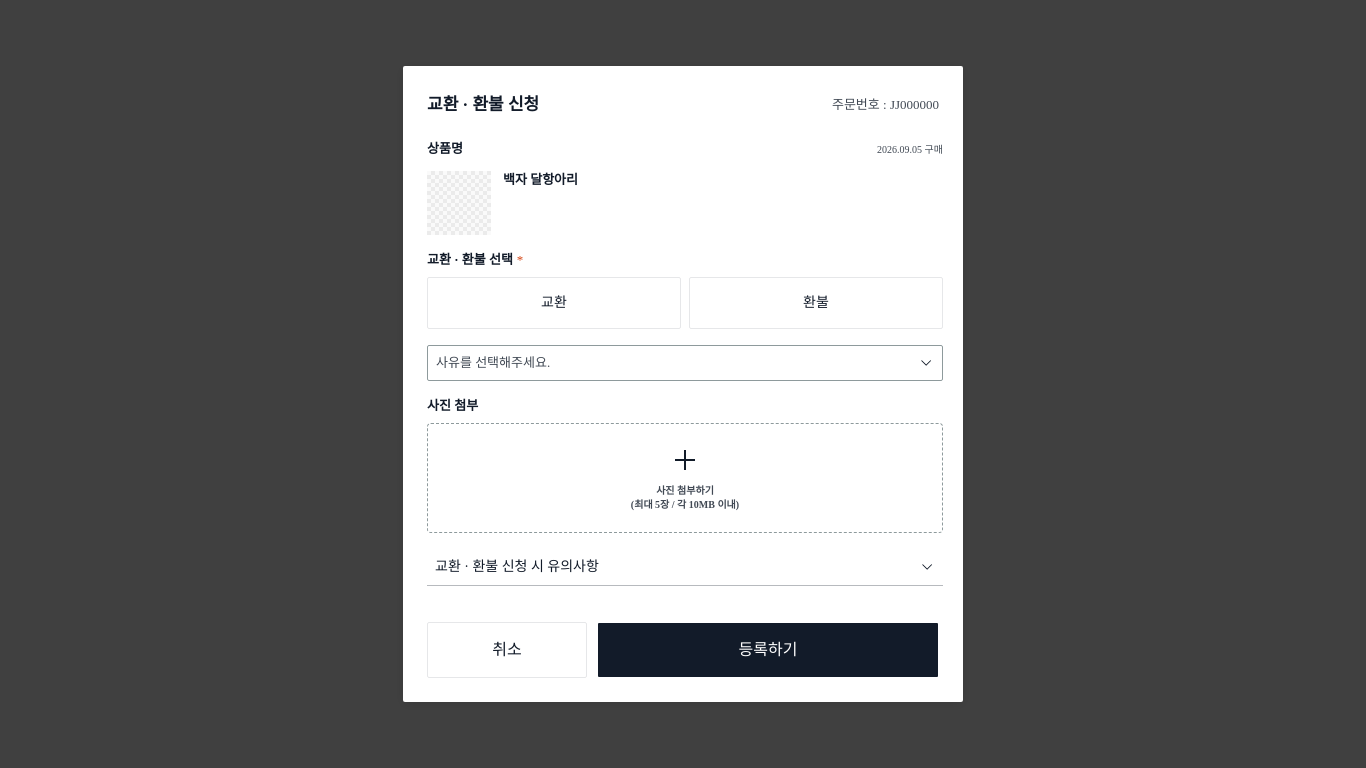
Test: OrderExchangeRefundRequestModal › 사진 없이 제출하면 에러를 보여준다(필수)
The width and height of the screenshot is (1366, 768).
Click the button "교환" at (554, 303), box [427,277,681,329]
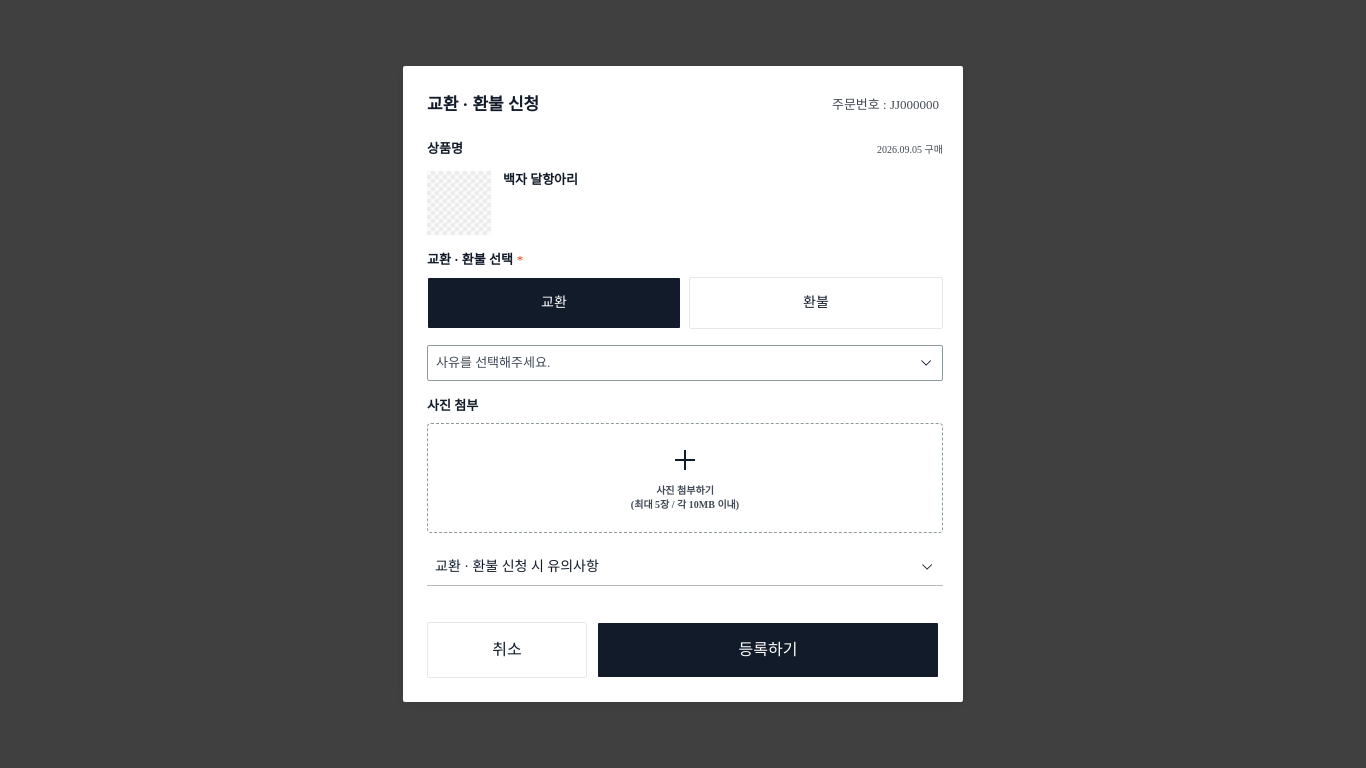
Click the dropdown named "신청 사유" at (493, 362), box [427,345,943,381]
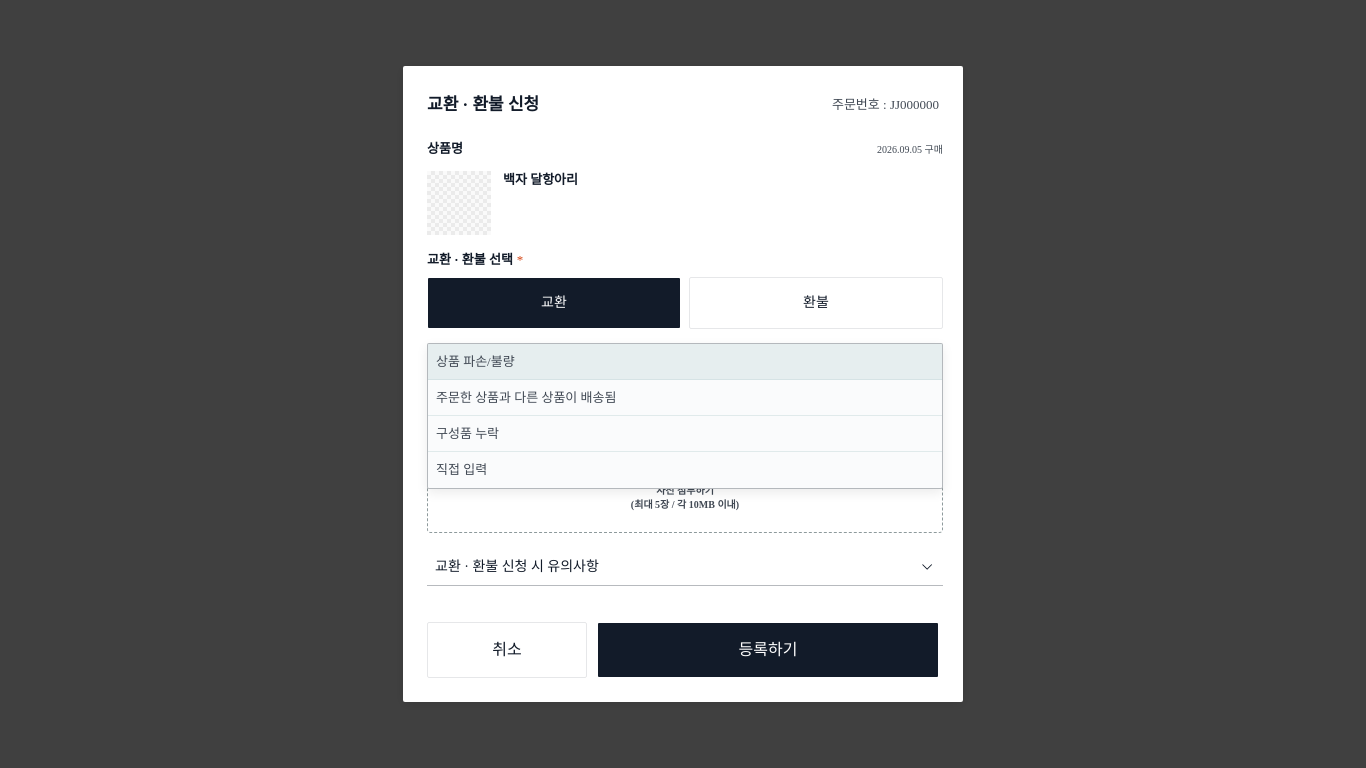
Click the option "상품 파손/불량" at (475, 361), box [428,344,942,380]
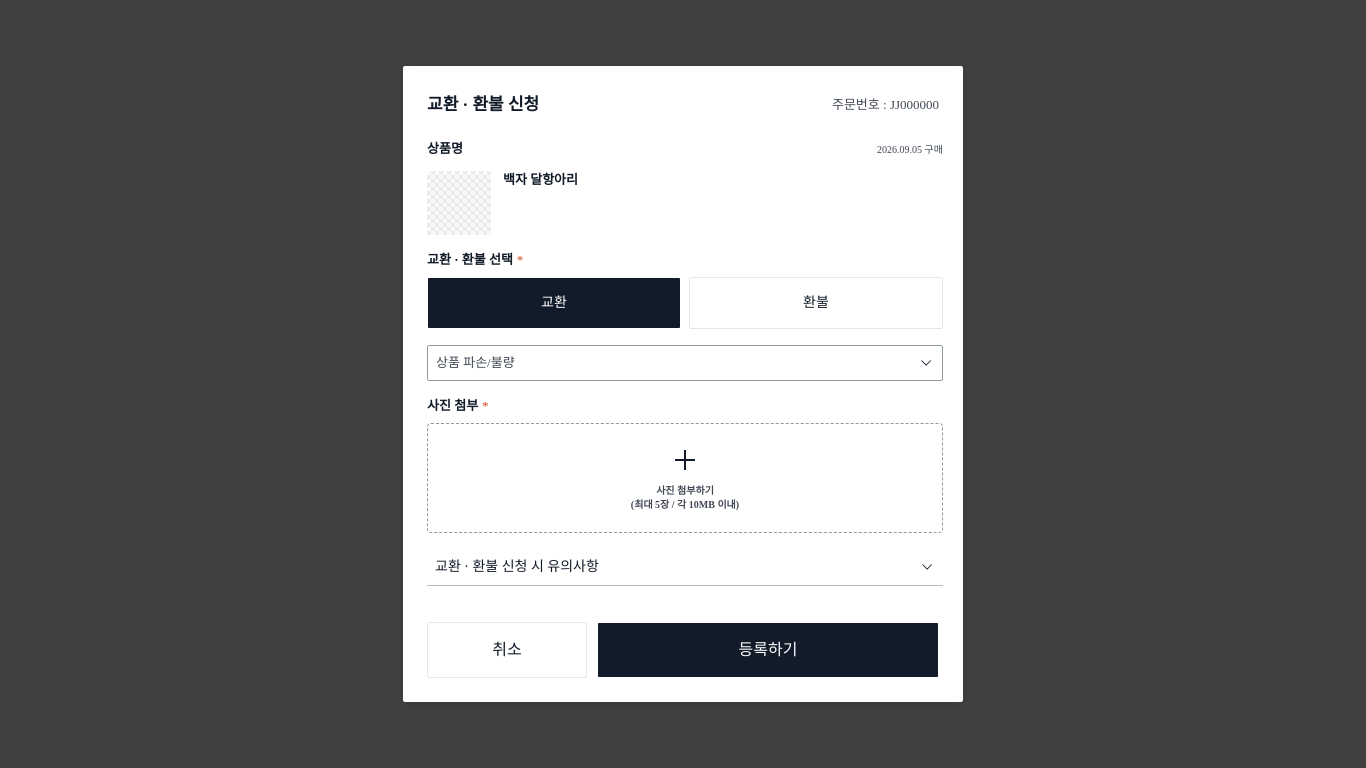
Click the button "등록하기" at (768, 650), box [597,622,939,678]
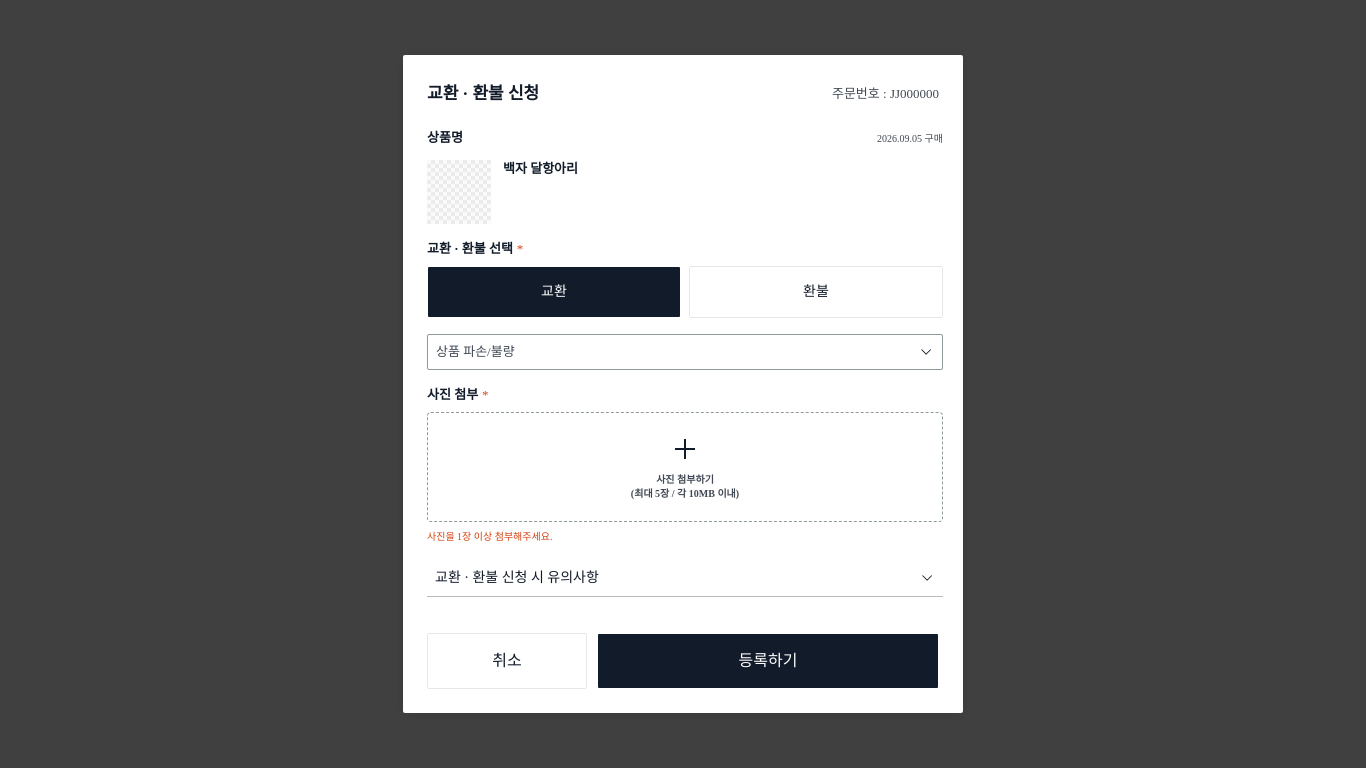
Check: the text "사진을 1장 이상 첨부해주세요." is shown, box [427,531,552,542]
